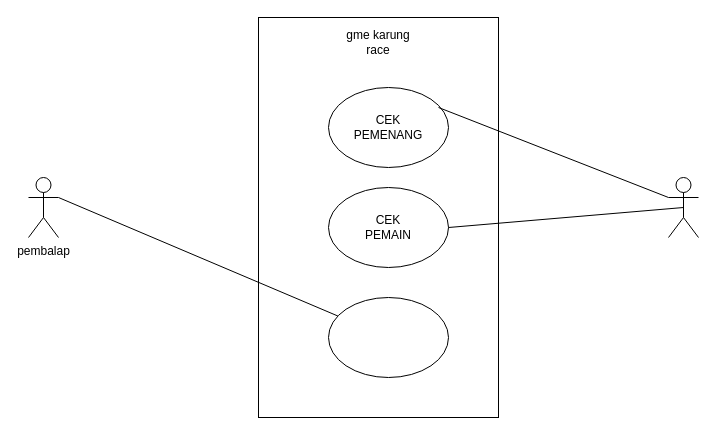
This 718x435 diagram has some shape labels left out. Each missing label, with the centre of its shape:
"BERMAIN" belongs at [388,337].
"panitia" belongs at [683,207].
